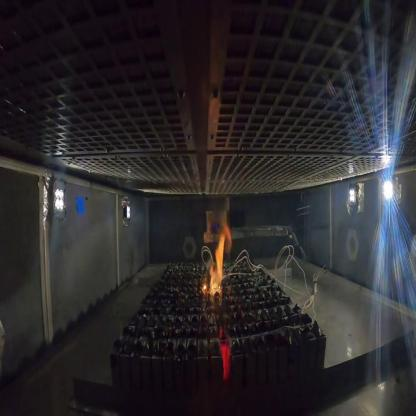fire: (200, 222, 234, 303)
